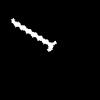half_double_crochet: (12, 19, 55, 50)
